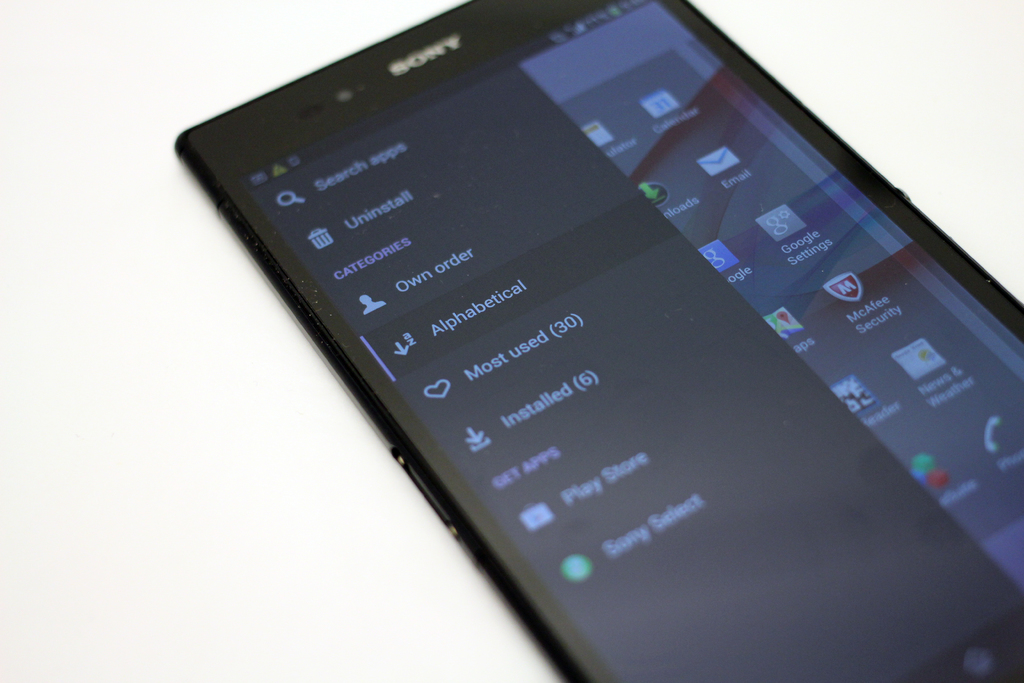Mobile-phone: (172, 0, 1024, 683)
